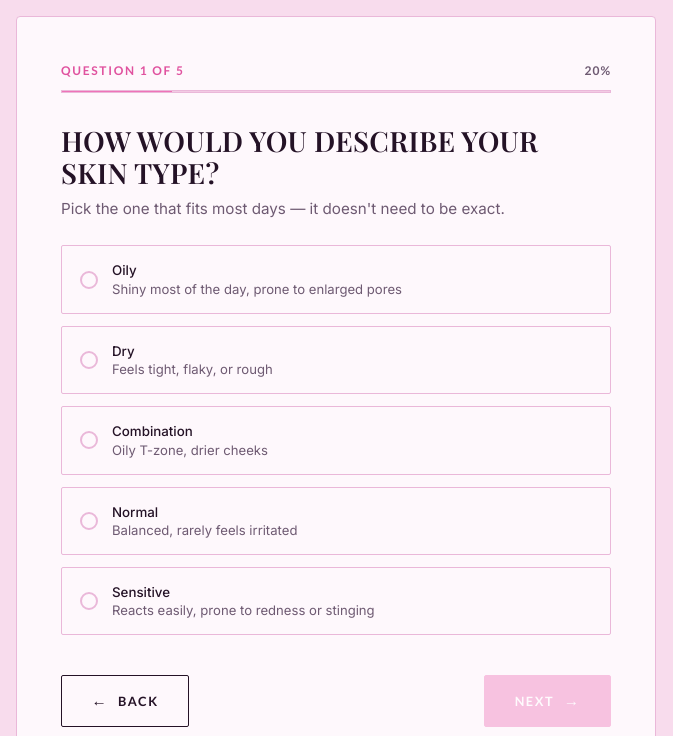
QuizPage › goes back to the previous question with the Back button
Click the radio button labelled "Oily Shiny most of the day, prone to enlarged pores". click: (336, 280)
box: [61, 246, 611, 314]
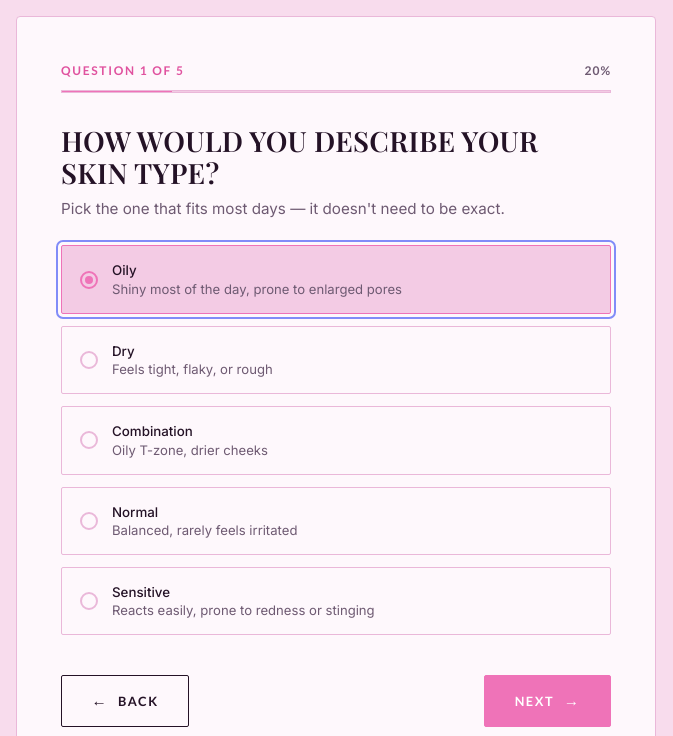
Click the button "Next". click: (548, 701)
box: [484, 675, 611, 727]
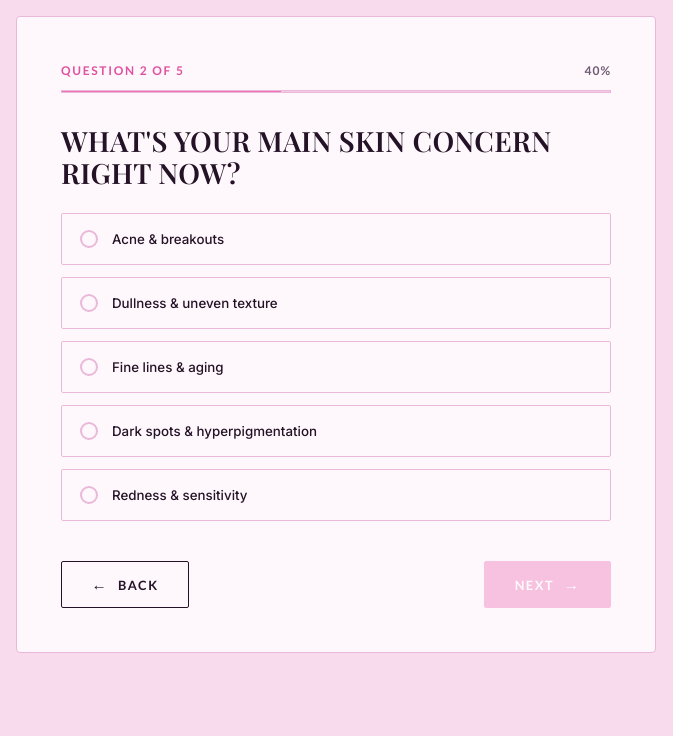
Expected: the heading "What's your main skin concern right now?" is shown, [61, 125, 611, 189]
Click the button "Back". click: (125, 585)
box: [61, 561, 189, 608]
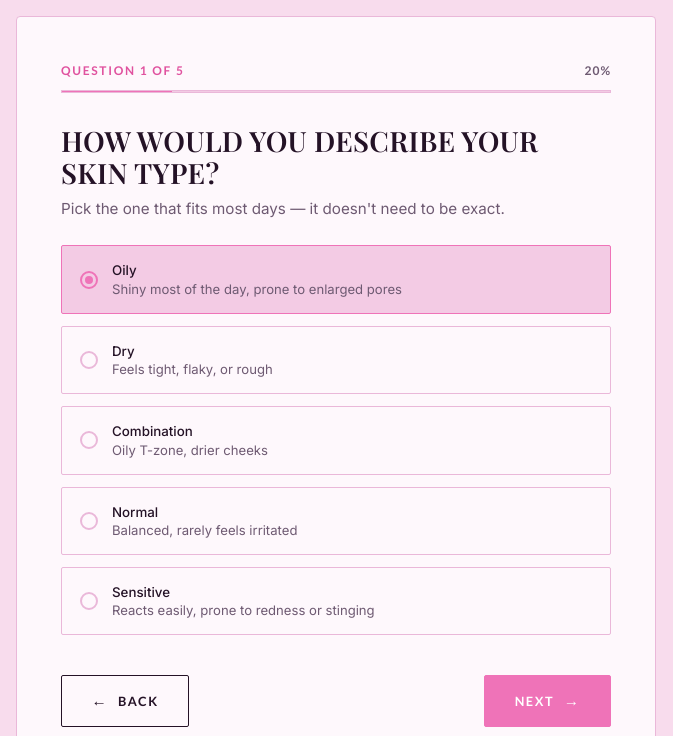
Expected: the heading "How would you describe your skin type?" is shown, [61, 125, 611, 189]
